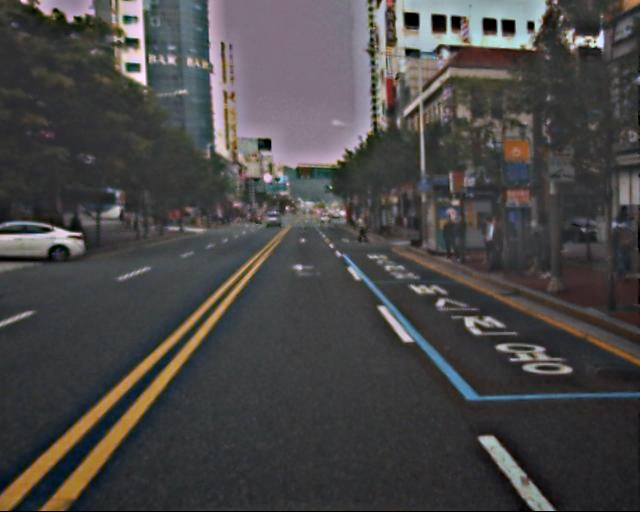person: (598, 212, 634, 282), (524, 216, 554, 280), (482, 213, 509, 272), (451, 214, 473, 268), (441, 214, 461, 263), (356, 211, 370, 245)
